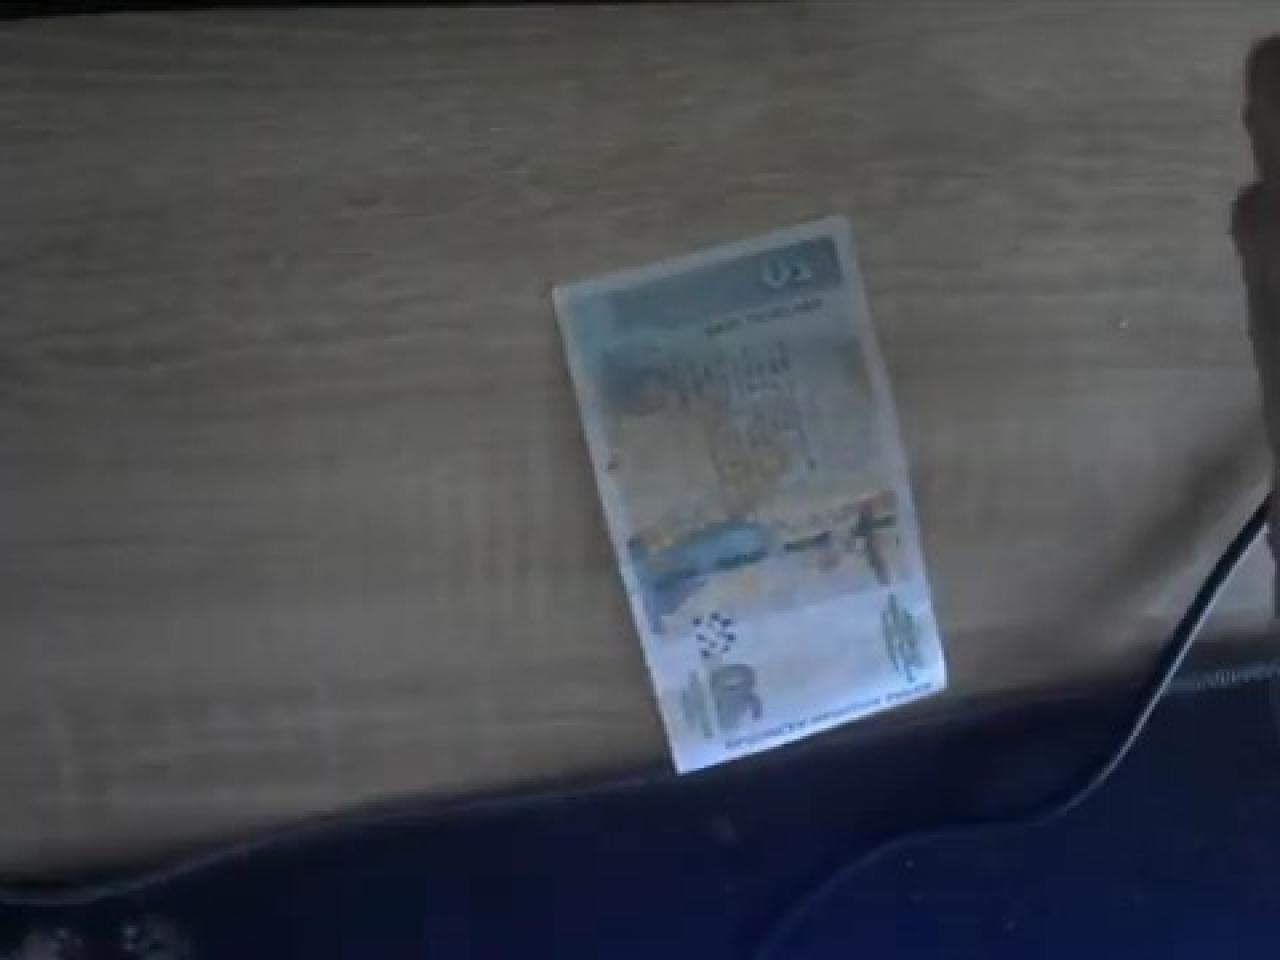20leva: (546, 211, 949, 770)
